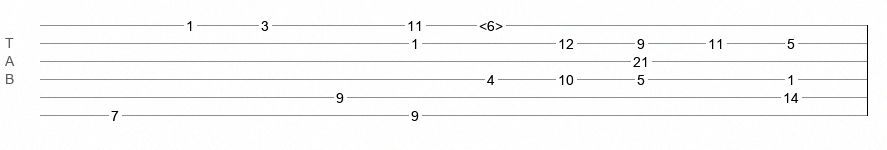1: (186, 18, 194, 28), (411, 36, 419, 46), (787, 72, 795, 82)
10: (558, 72, 574, 82)
11: (407, 18, 423, 28), (708, 36, 724, 46)
12: (558, 36, 574, 46)
14: (783, 90, 799, 100)
21: (633, 54, 649, 64)
3: (261, 18, 269, 28)
4: (487, 72, 495, 82)
5: (637, 72, 645, 82), (787, 36, 795, 46)
7: (111, 108, 119, 118)
9: (336, 90, 344, 100), (411, 108, 419, 118), (637, 36, 645, 46)
harmonic: (479, 18, 503, 28)
